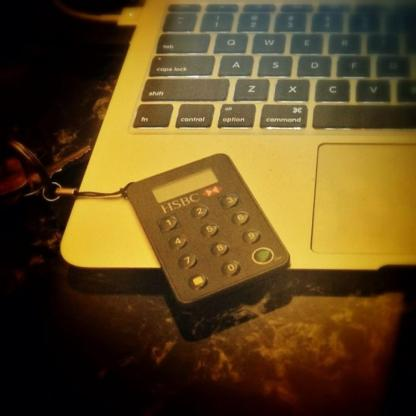board: (60, 0, 416, 269)
